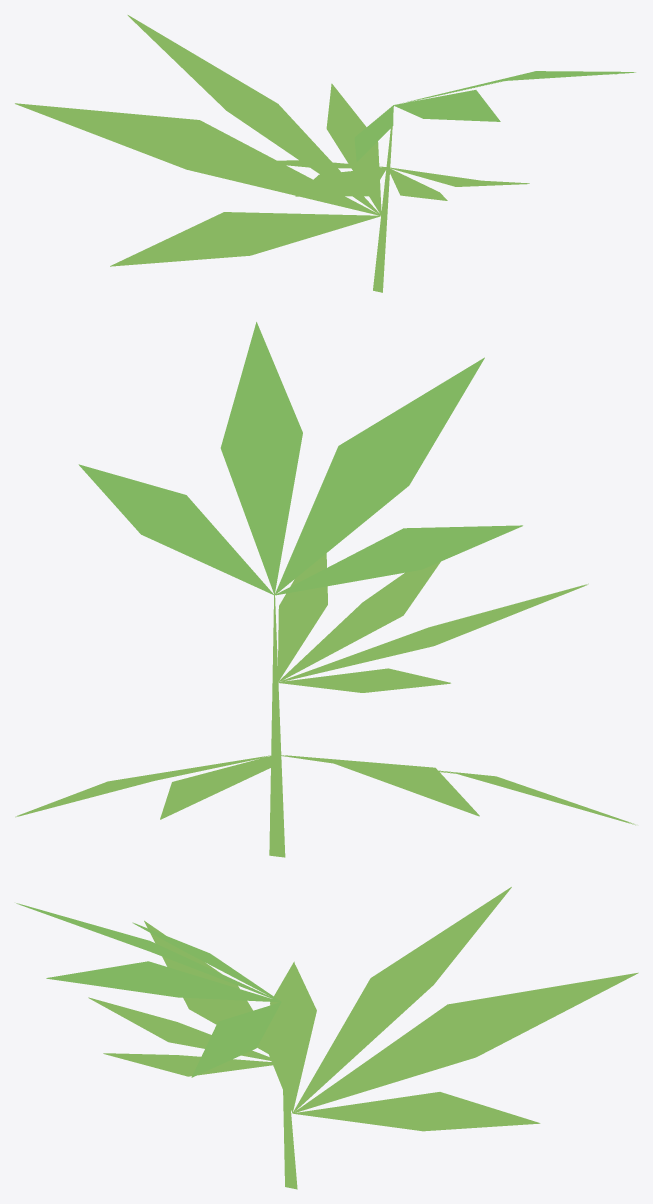
The model's file is Plant_i_TwoS_10.fbx.
3 renders of one model, top to bottom at view 1: azimuth 30°, elevation 25°; view 2: azimuth 150°, elevation 25°; view 3: azimuth 270°, elevation 25°, orthographic. The views are drawn at different scales.
Visible parts, largest first — view 1: Plant_i_TwoS_10; view 2: Plant_i_TwoS_10; view 3: Plant_i_TwoS_10.
Boxes of the visible parts, bbox=[...] form: Plant_i_TwoS_10: bbox=[15, 15, 635, 292]; Plant_i_TwoS_10: bbox=[15, 322, 635, 857]; Plant_i_TwoS_10: bbox=[16, 887, 638, 1189].
Size of the model in its own units: 0.2957 by 0.1653 by 0.3374.
